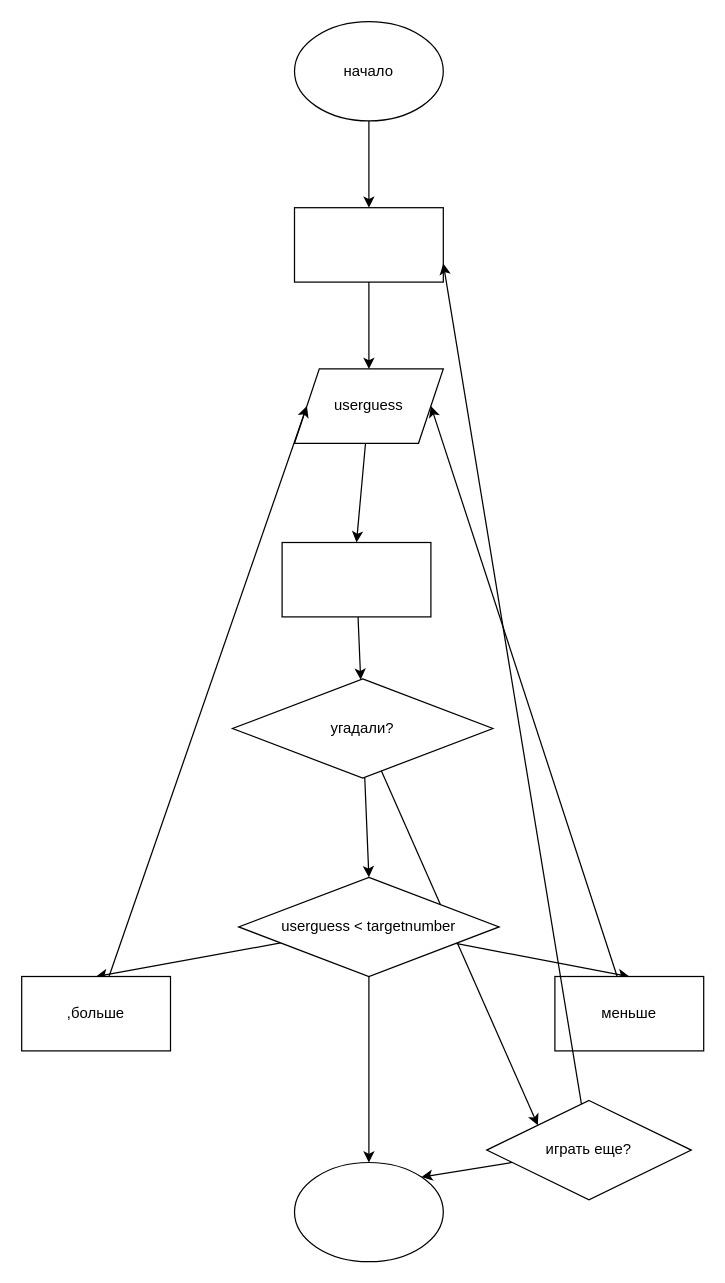
This 725x1283 diagram has some shape labels left out. The shapes that lost their labels are listed below. From the top down, each one's centre as x and y in pixels, then its label:
At point 368,244: "targetnumber".
At point 356,579: "\attemps++".
At point 368,1211: "конец".
